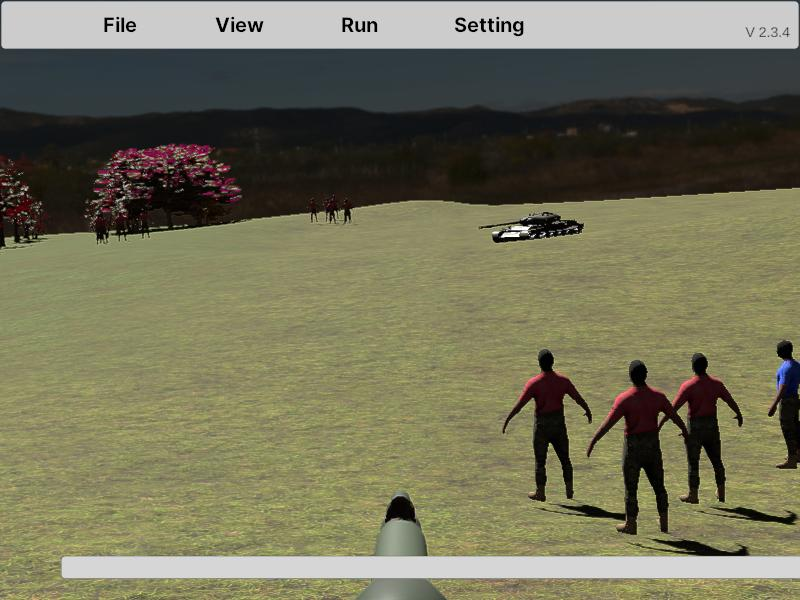Human: (585, 358, 689, 535), (502, 347, 593, 503), (664, 351, 743, 506), (767, 341, 800, 469)
Tank: (477, 211, 584, 244)
